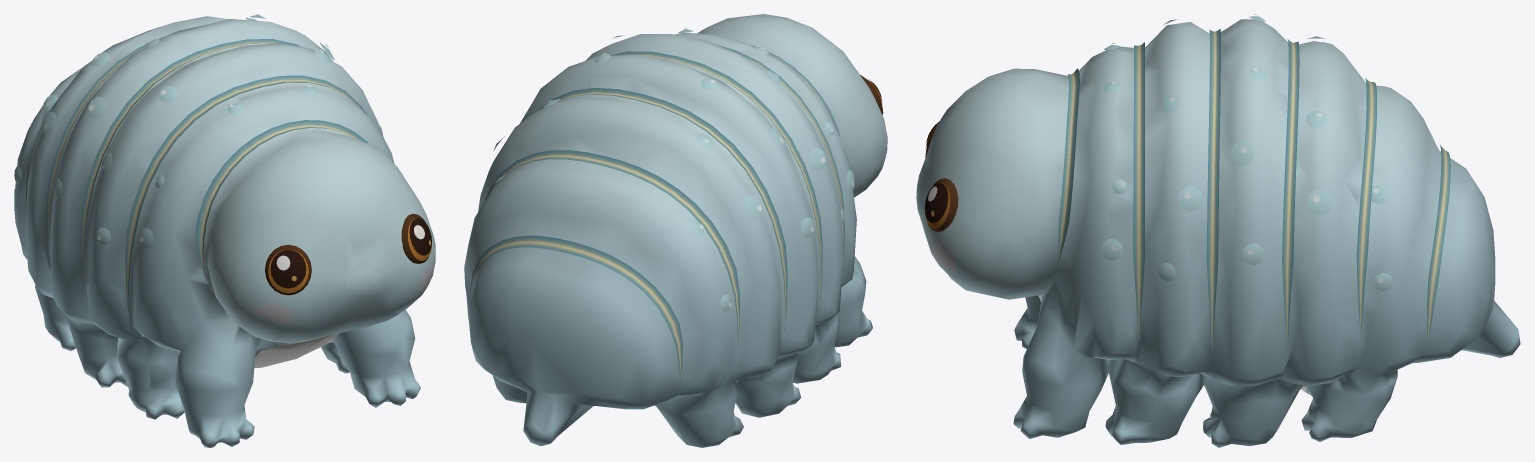
The model's file is dewbear.glb.
3 views of the same model, side by side, from view 1: azimuth 30°, elevation 25°; view 2: azimuth 150°, elevation 25°; view 3: azimuth 270°, elevation 25° (orthographic). The views are drawn at different scales.
Visible parts, largest first — view 1: body, eyes; view 2: body, eyes; view 3: body, eyes.
Boxes of the visible parts, left/top/right/bottom form: body: left=14, top=16, right=435, bottom=447; eyes: left=14, top=14, right=431, bottom=312; body: left=464, top=14, right=887, bottom=447; eyes: left=470, top=28, right=883, bottom=383; body: left=916, top=19, right=1520, bottom=447; eyes: left=924, top=14, right=1450, bottom=352.
Size of the model in its own units: 0.9981 by 0.9941 by 1.58.
